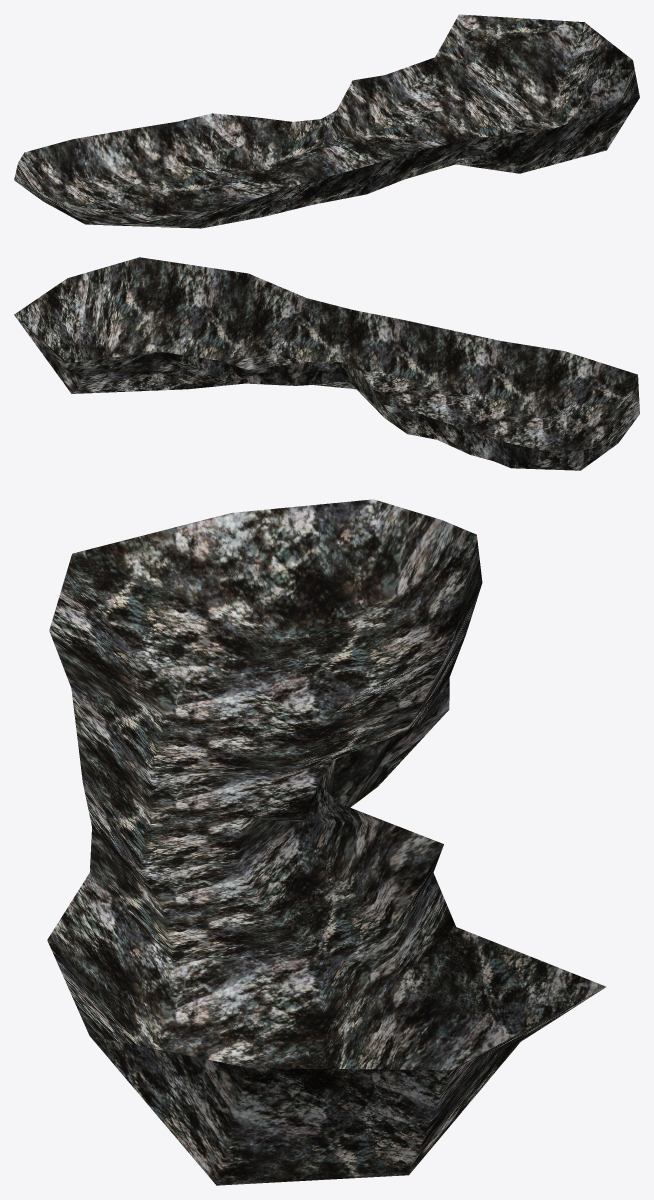
Rendered from OVERHILL_A_01_MOUNTAIN_VALLEY_02.fbx.
The picture shows the model from 3 angles, top to bottom: view 1: azimuth 30°, elevation 25°; view 2: azimuth 150°, elevation 25°; view 3: azimuth 270°, elevation 25°; orthographic projection. The views are drawn at different scales.
Visible parts, largest first — view 1: OVERHILL_A_01_MOUNTAIN_VALLEY_02; view 2: OVERHILL_A_01_MOUNTAIN_VALLEY_02; view 3: OVERHILL_A_01_MOUNTAIN_VALLEY_02.
Part boxes in pixels (x1,y1,x2,y2): OVERHILL_A_01_MOUNTAIN_VALLEY_02: (14, 14, 639, 228); OVERHILL_A_01_MOUNTAIN_VALLEY_02: (14, 257, 639, 470); OVERHILL_A_01_MOUNTAIN_VALLEY_02: (47, 499, 606, 1185).
Size of the model in its own units: 1391909 by 171450 by 576495.
Materials: 1 (1 with a texture image).
